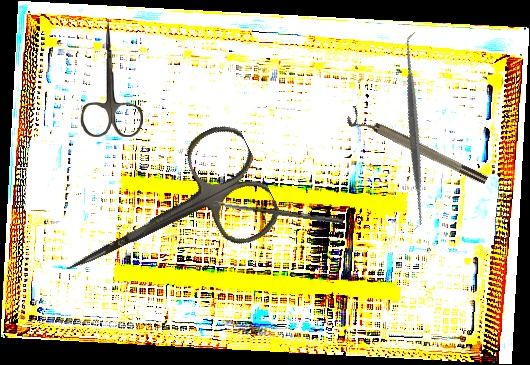Fixation Ring: (344, 105, 490, 193)
Iris Scissors: (39, 117, 288, 321), (77, 20, 144, 138)
Spatula Surgical: (315, 31, 514, 231)
Surgical Spoon: (213, 199, 344, 225)
